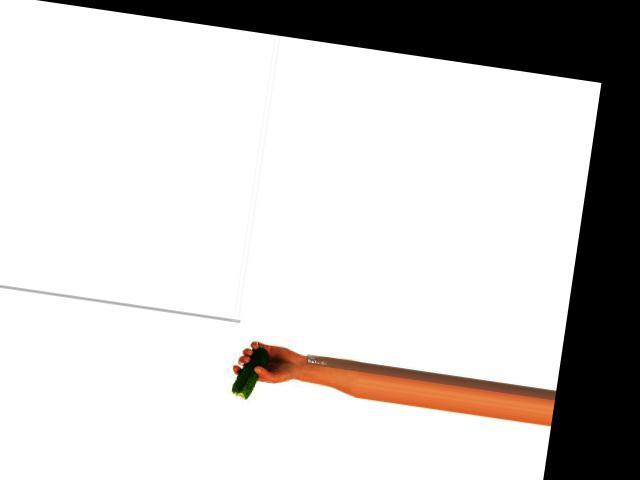cucumber: (231, 343, 270, 401)
